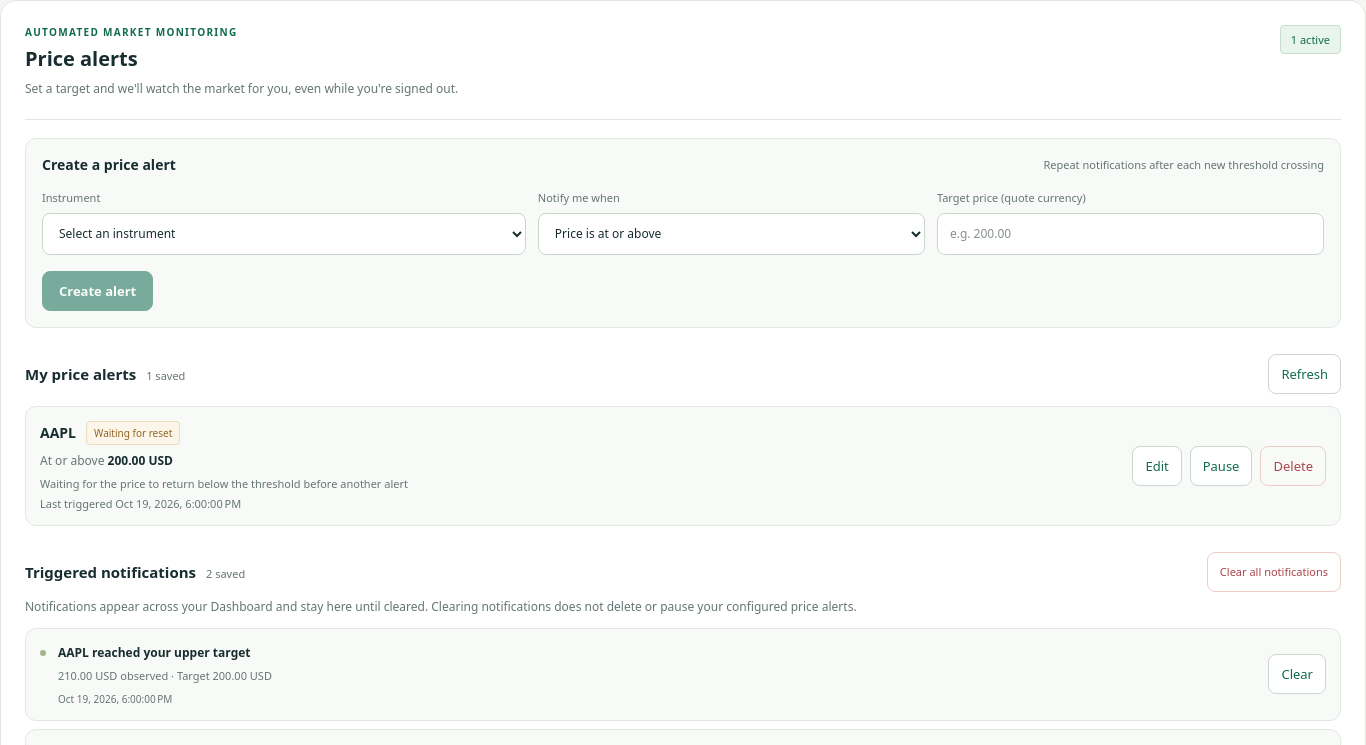
Test: PriceAlertsComponent notification clear actions › clears the full notification inbox, not the alert configurations
Click the button with class "clear-all-button" at x=1274, y=572, box [1207,552,1341,592]
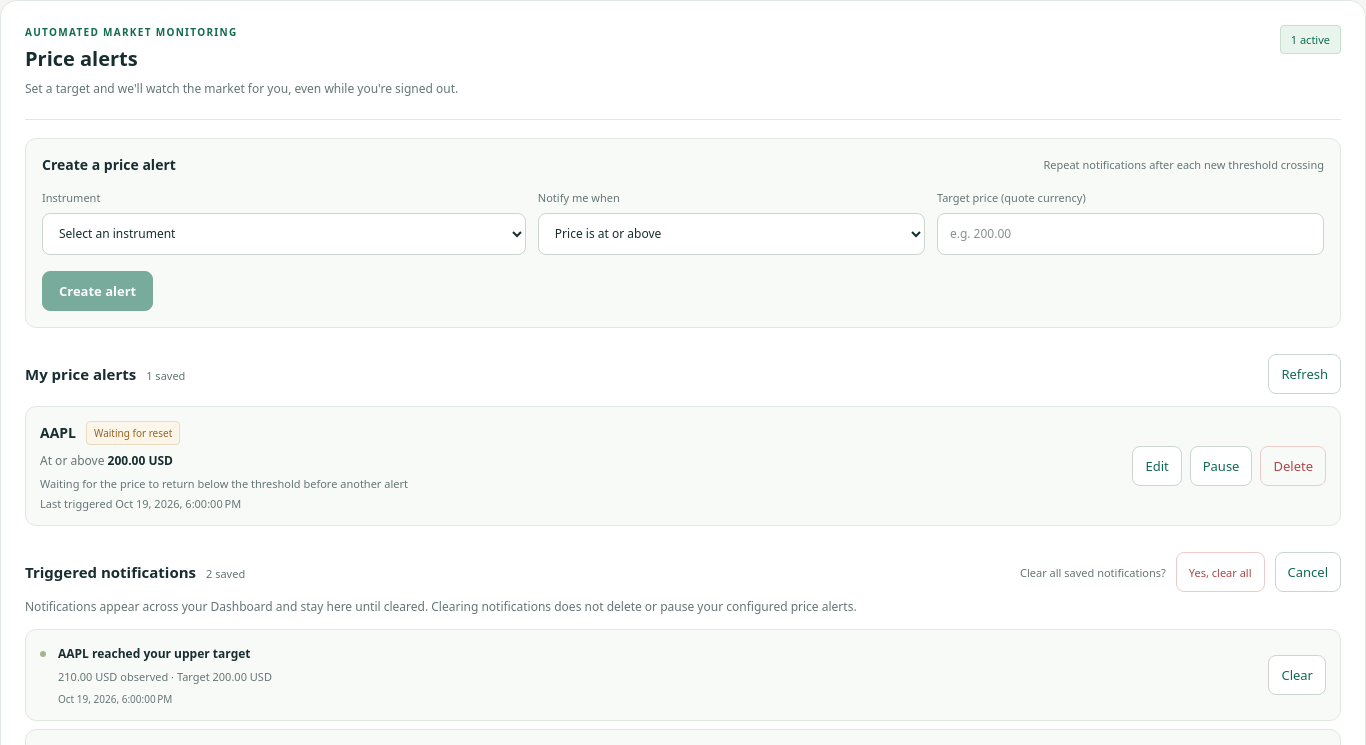
Now the text "Yes, clear all" is shown
Click the button with class "clear-all-button" at x=1220, y=572, box [1176,552,1264,592]
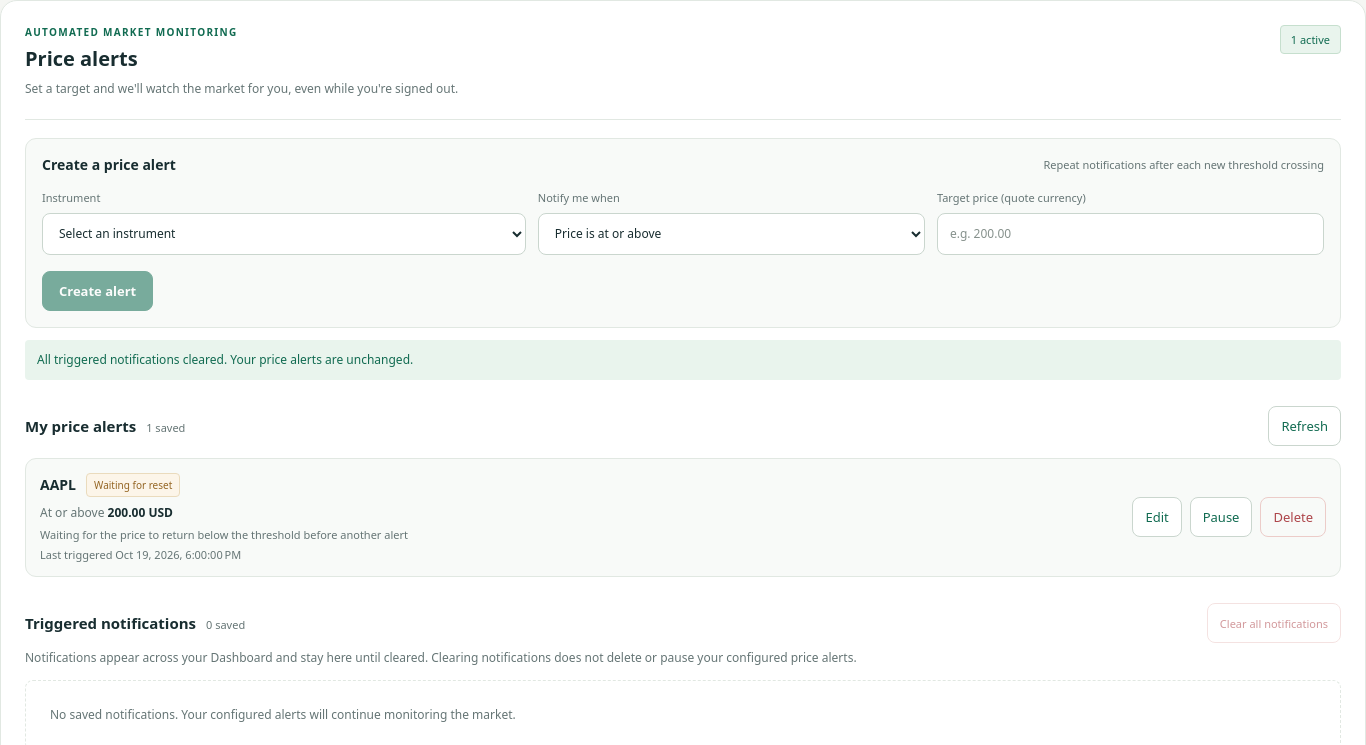
Now the text "No saved notifications" is shown, box [50,706,516,723]
